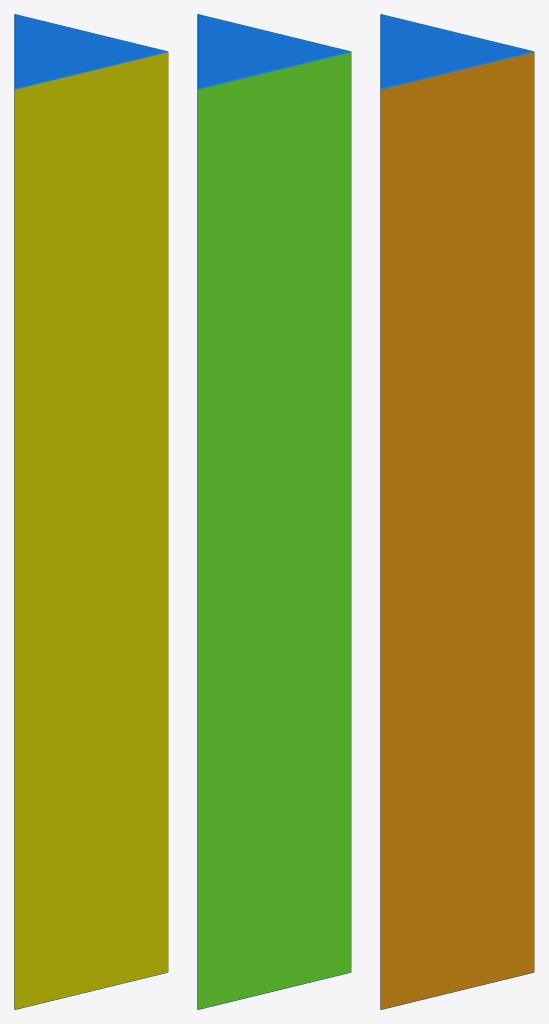
File: prism.glb
3 renders of one model, left to right at view 1: azimuth 30°, elevation 25°; view 2: azimuth 150°, elevation 25°; view 3: azimuth 270°, elevation 25°, orthographic.
Visible parts, largest first — view 1: Prism01; view 2: Prism01; view 3: Prism01.
Part boxes in pixels (x1,y1,x2,y2): Prism01: [14, 14, 168, 1009]; Prism01: [197, 14, 351, 1009]; Prism01: [380, 14, 534, 1009].
Bounding box in the file's own units: 0.995 × 5.68 × 0.8617.
